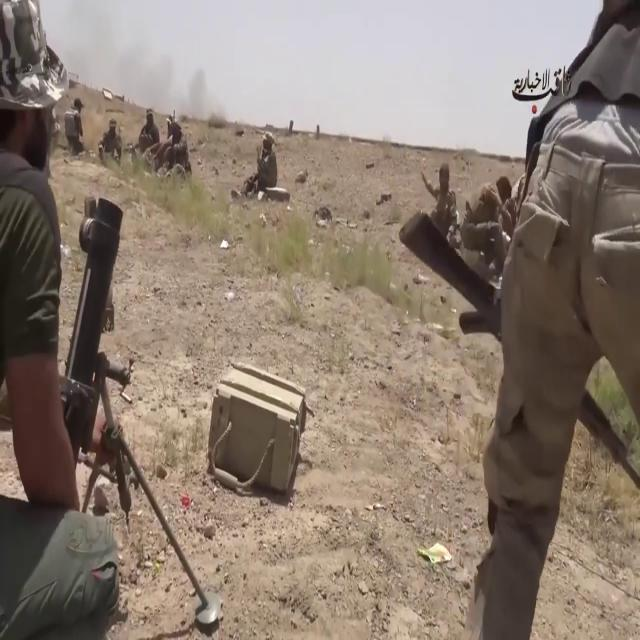long weapon: (393, 198, 638, 483)
